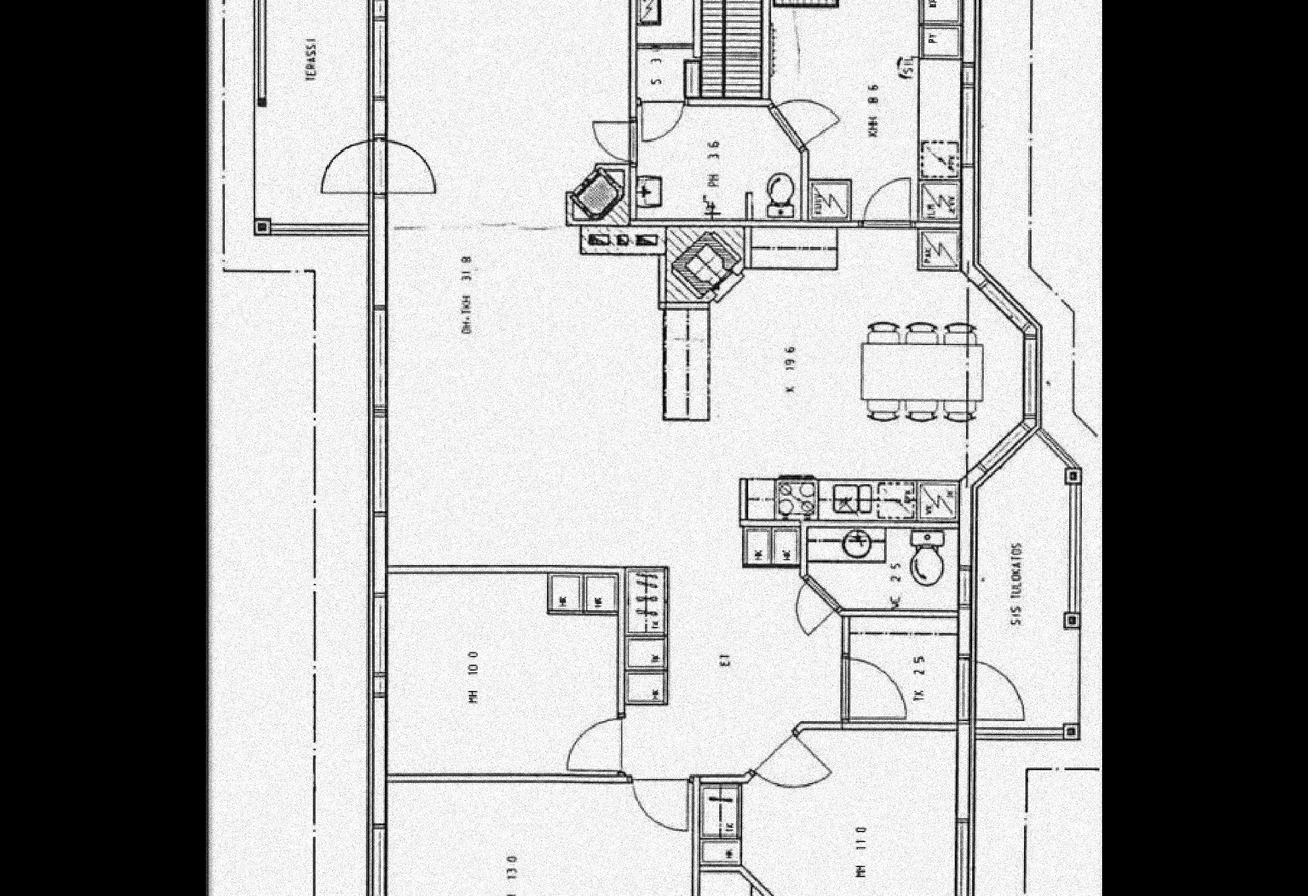door: (379, 0, 1015, 782), (386, 570, 616, 772), (388, 573, 612, 775), (770, 0, 957, 219), (739, 726, 957, 896), (385, 780, 695, 896), (974, 431, 1085, 728), (258, 0, 363, 223), (634, 91, 803, 223), (805, 526, 959, 616), (844, 613, 957, 728), (634, 0, 763, 98), (699, 777, 741, 860), (693, 860, 787, 896)
window: (316, 140, 437, 196), (754, 729, 832, 792), (959, 655, 1025, 723), (769, 93, 845, 149), (842, 655, 903, 722), (568, 714, 625, 774), (630, 776, 689, 831), (859, 172, 912, 231), (797, 578, 839, 638), (639, 94, 686, 145), (591, 116, 639, 163)
zone: (370, 306, 390, 513), (982, 275, 1031, 336), (980, 421, 1033, 477), (371, 0, 390, 96), (370, 597, 388, 694), (1021, 342, 1040, 416), (951, 818, 968, 896), (961, 62, 974, 163), (370, 827, 388, 896), (957, 570, 971, 609)
